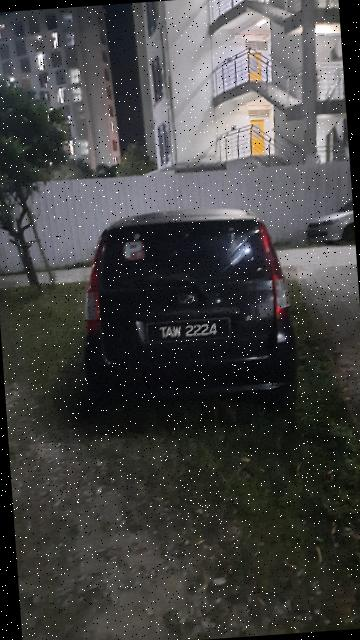License_Plate: (143, 311, 238, 352)
car: (74, 200, 309, 426)
